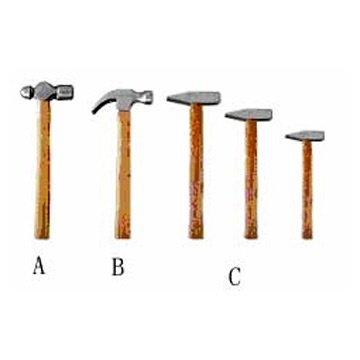hammer: (18, 82, 77, 242), (90, 86, 151, 240), (166, 89, 222, 237), (224, 108, 268, 240), (285, 130, 325, 240)
